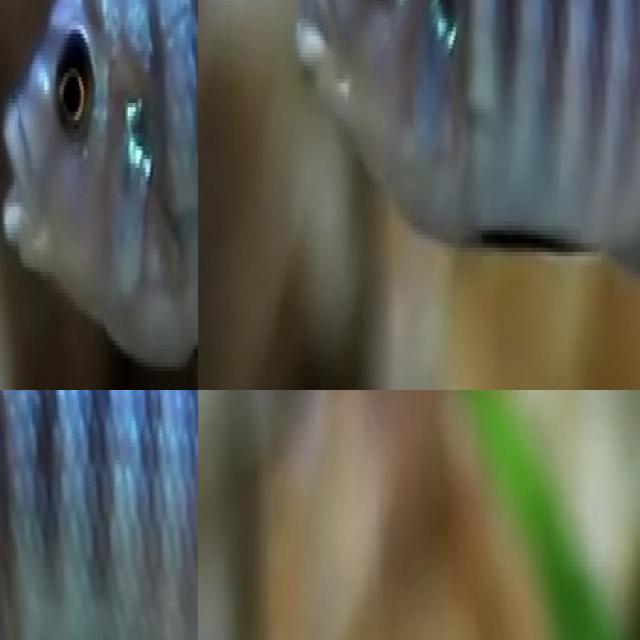fish: (199, 0, 640, 312), (0, 0, 198, 390), (606, 449, 640, 640)
